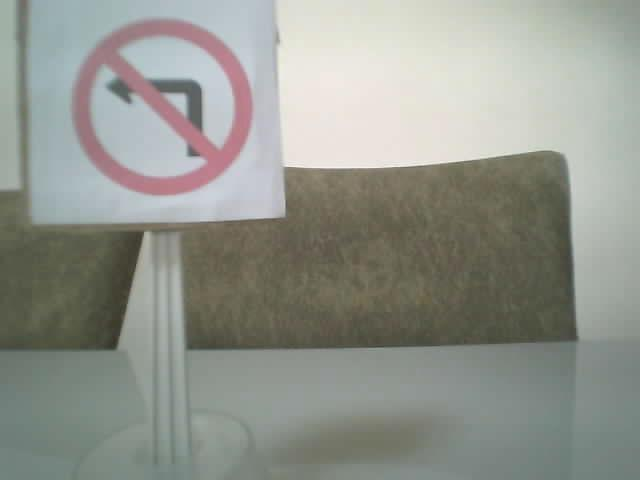R-4a_proibido-esquerda: (70, 18, 250, 195)
